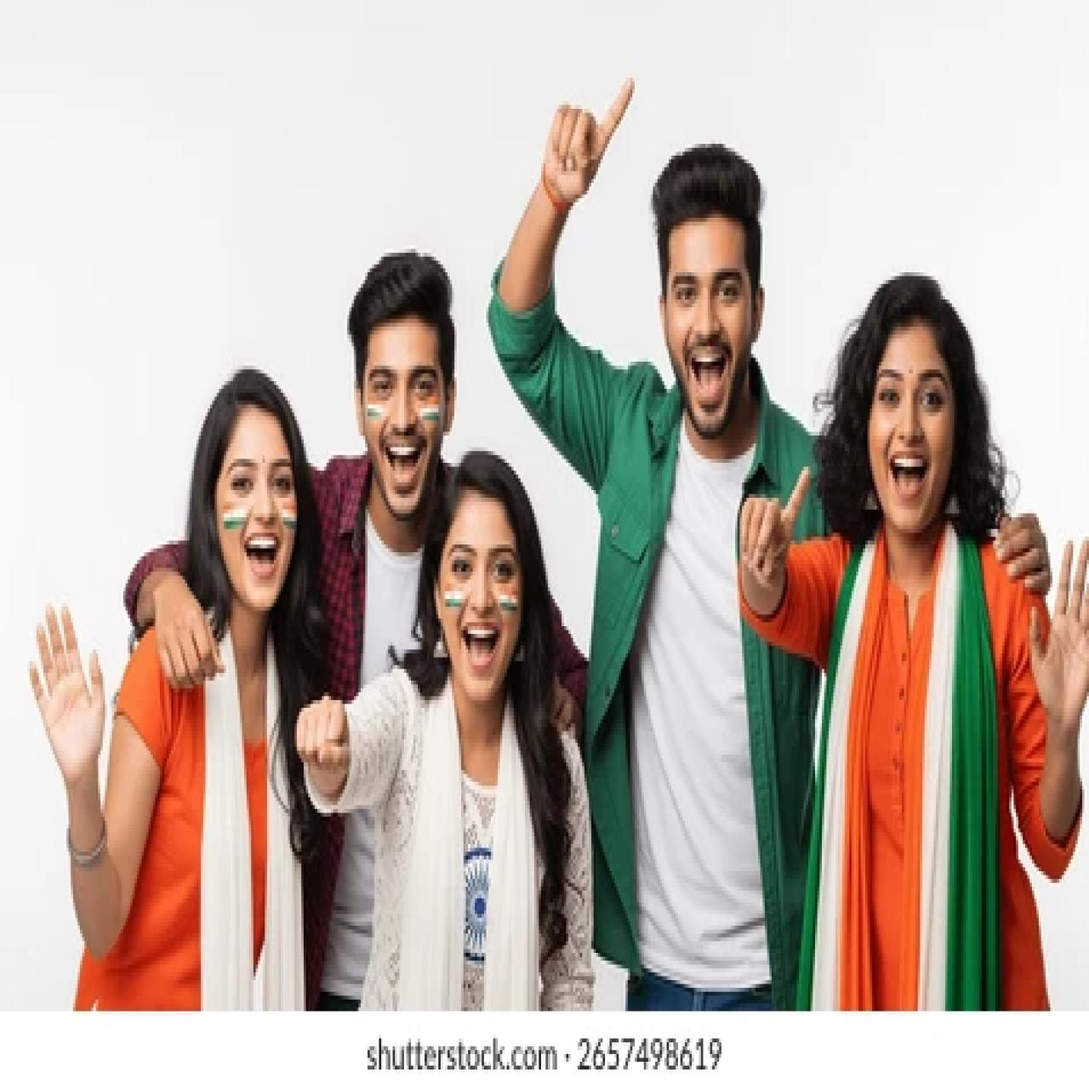NO_Safety_Vest: (631, 409, 825, 1004), (833, 526, 1000, 991), (128, 628, 301, 991), (385, 666, 541, 999)
Person: (488, 35, 840, 1017), (742, 234, 1089, 1000), (14, 355, 341, 1017), (297, 433, 602, 995), (268, 239, 478, 745)
